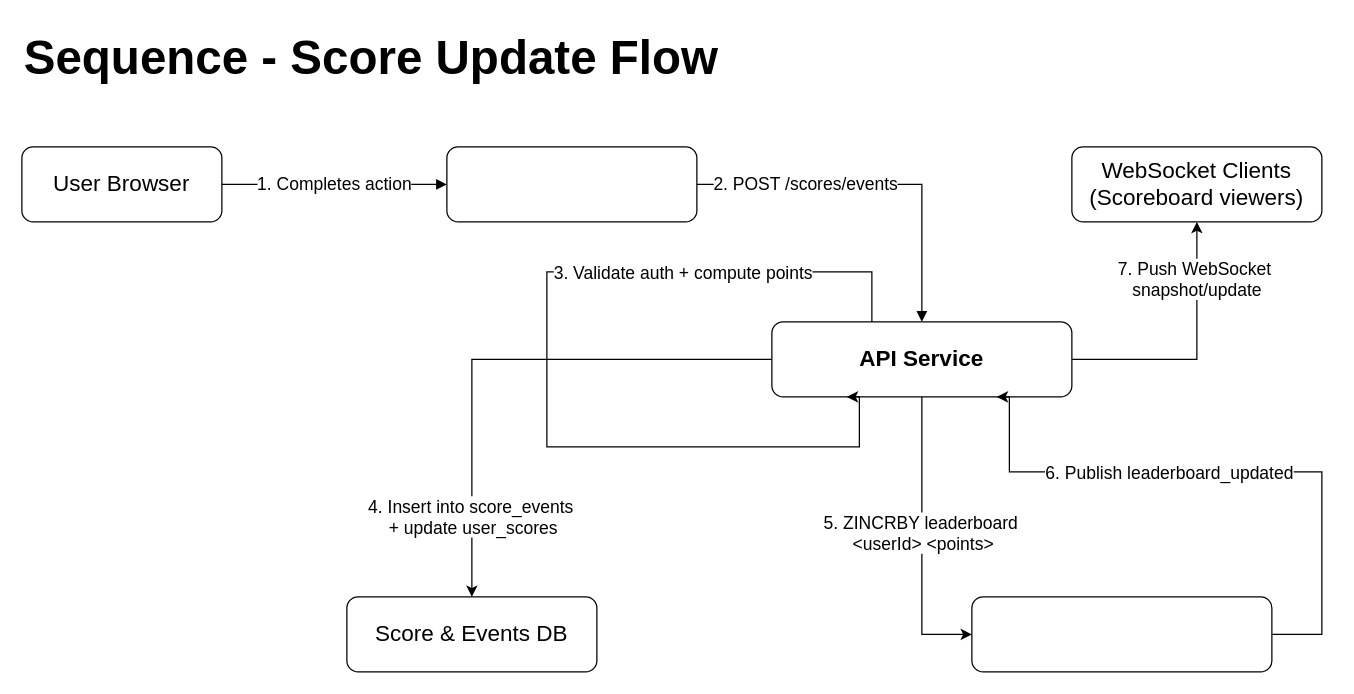
Image size: 1354x694. Some labels were removed from this diagram. The shapes that lost their labels are listed below. From the top down, each one's centre as x and y in pixels, then its label:
At pixel 571 184: "Frontend App".
At pixel 1121 634: "Leaderboard Cache (Redis)".
